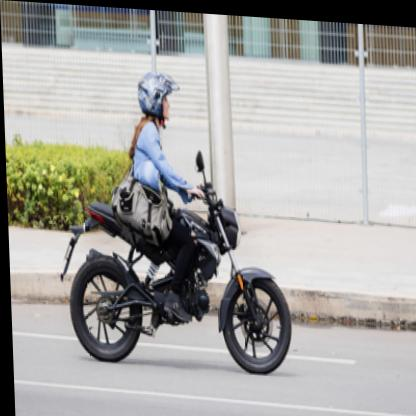With Helmet: (133, 59, 181, 122)
